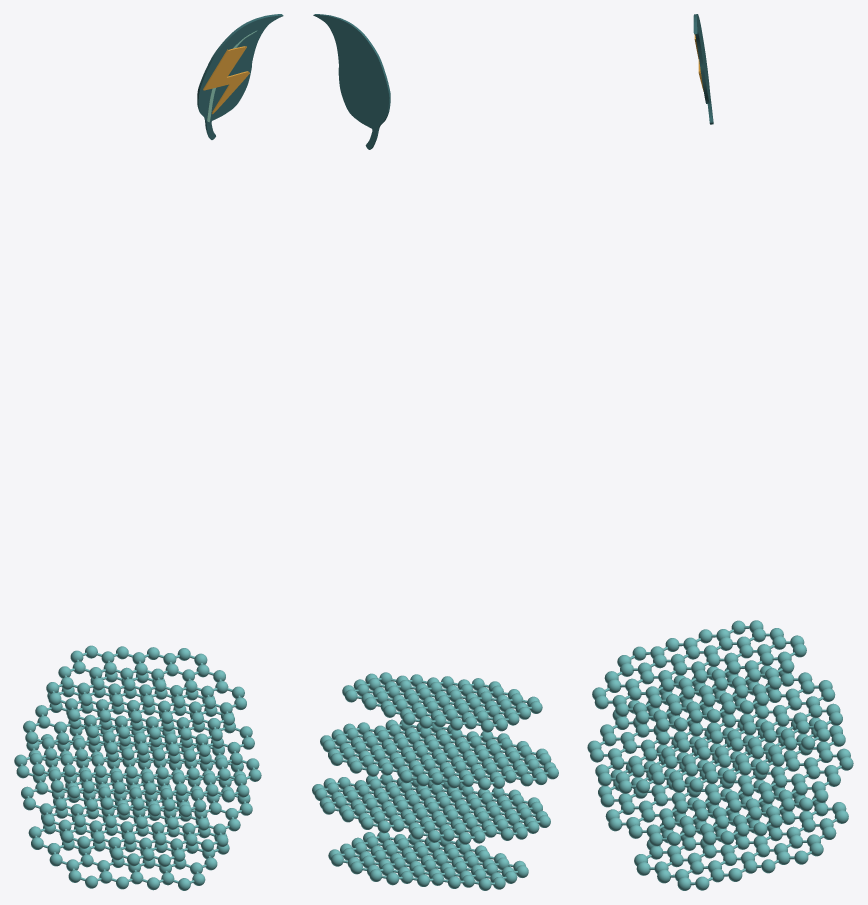
The model's file is qds3_c.glb.
3 views of the same model, side by side, from view 1: azimuth 30°, elevation 25°; view 2: azimuth 150°, elevation 25°; view 3: azimuth 270°, elevation 25° (orthographic). The views are drawn at different scales.
Visible parts, largest first — view 1: qds3_cds, path182, path186; view 2: qds3_cds, path182; view 3: qds3_cds, path182.
Boxes of the visible parts, <box> form: qds3_cds: <box>14,645,261,890</box>; path182: <box>197,14,283,139</box>; path186: <box>203,46,249,114</box>; qds3_cds: <box>312,672,558,890</box>; path182: <box>313,14,390,149</box>; qds3_cds: <box>587,620,853,890</box>; path182: <box>693,14,713,124</box>.
Bounding box in the file's own units: 1.78 × 5.82 × 1.56.
